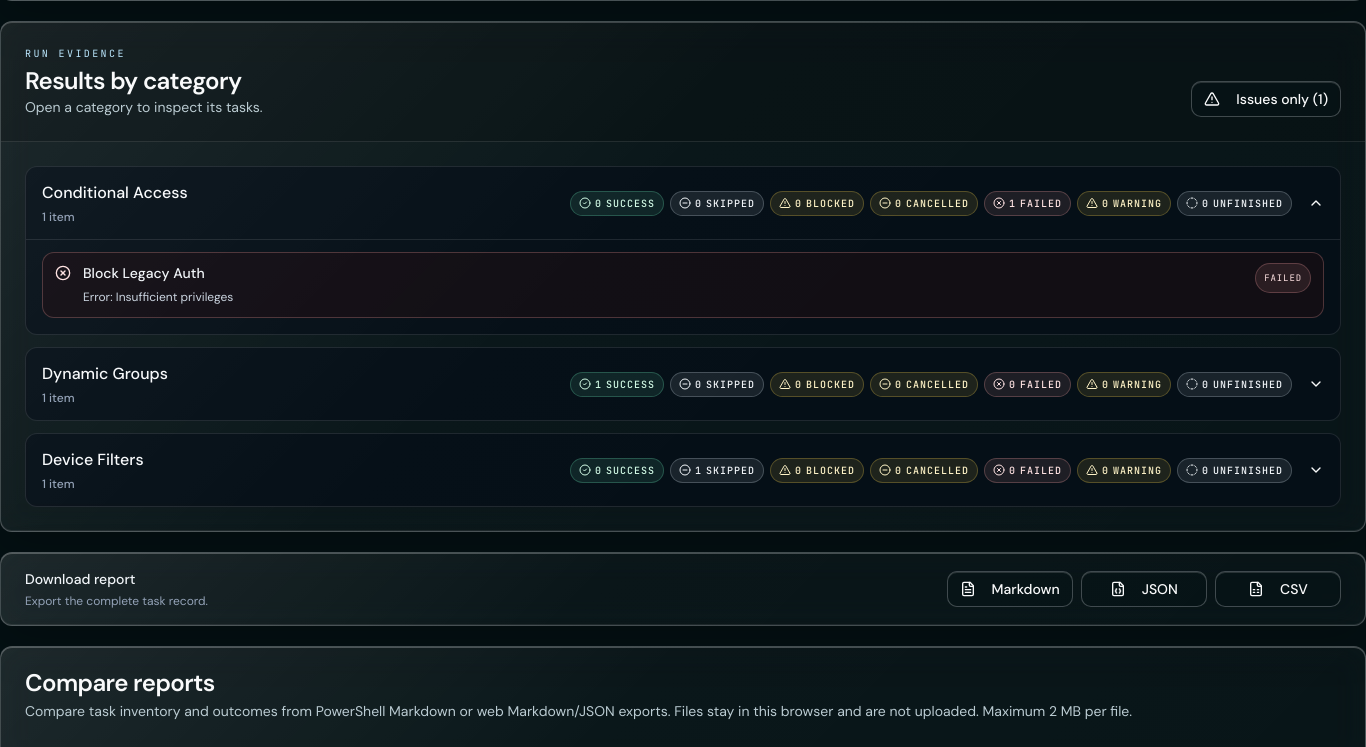
ResultsSummary › shows each category once and keeps task details inside it
(page scrolled)
Check: the text "Dynamic Groups" is shown once, box left=42, top=362, right=168, bottom=386
Step 1. Click the button "Dynamic Groups" → (683, 384), box left=26, top=348, right=1340, bottom=420
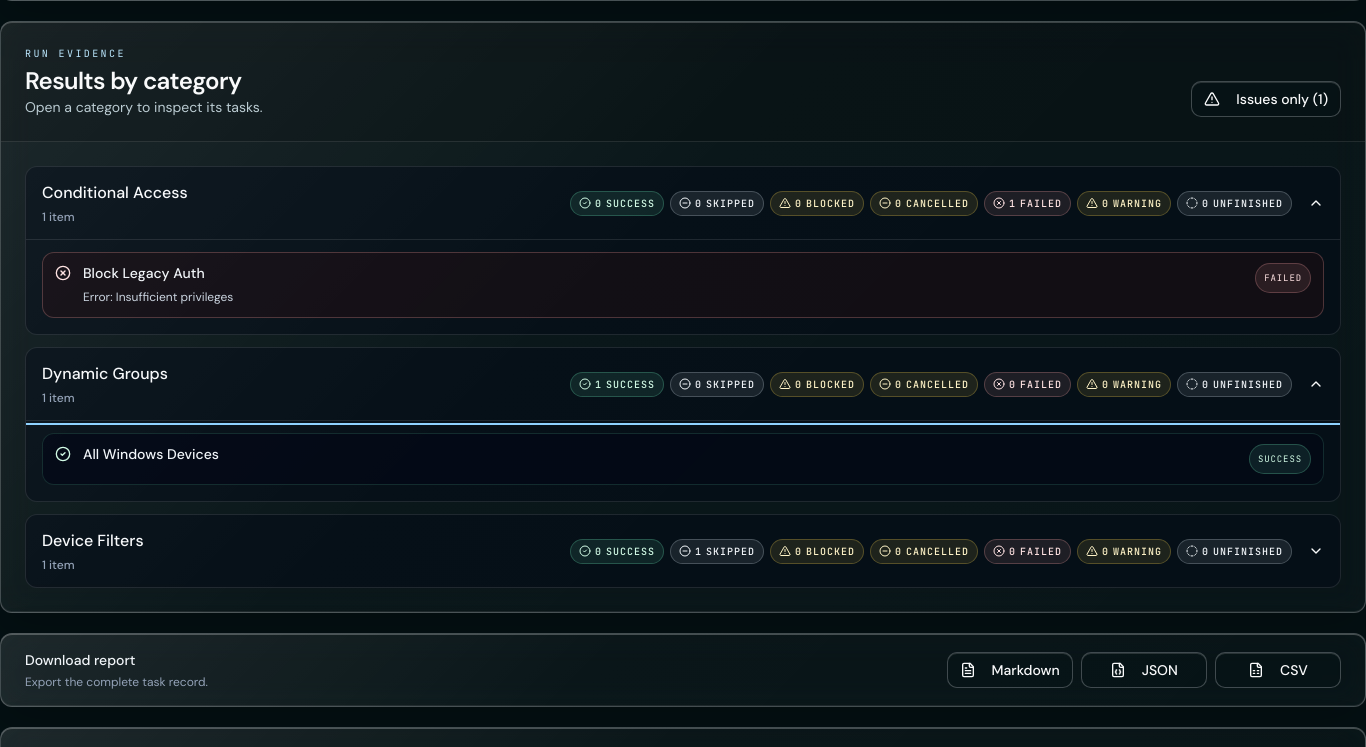
Check: the list item "All Windows Devices" shows "Success", box left=1258, top=453, right=1302, bottom=465
